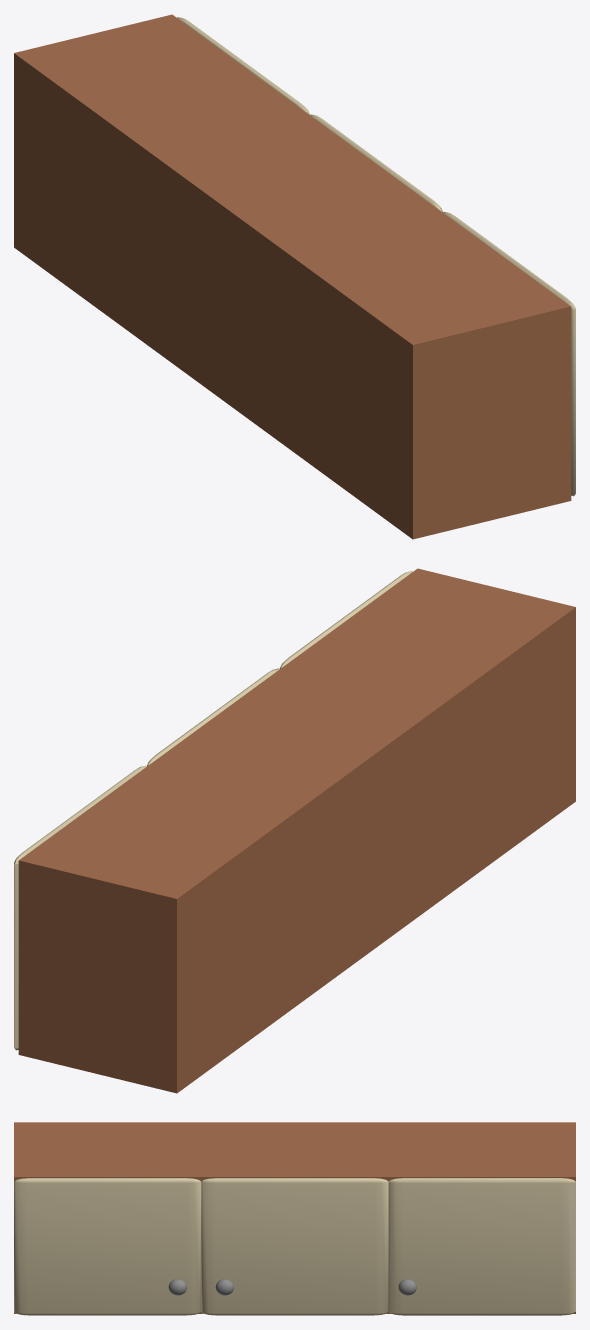
Rendered from Wandschrank.fbx.
3 views of the same model, one above another, from view 1: azimuth 30°, elevation 25°; view 2: azimuth 150°, elevation 25°; view 3: azimuth 270°, elevation 25° (orthographic). The views are drawn at different scales.
Parts seen in each view (by area): view 1: Wandschrank, Wandschrank_Tür_links, Wandschrank_Tür_rechts, Wandschrank_Tür_mittig; view 2: Wandschrank, Wandschrank_Tür_rechts, Wandschrank_Tür_links, Wandschrank_Tür_mittig; view 3: Wandschrank, Wandschrank_Tür_mittig, Wandschrank_Tür_links, Wandschrank_Tür_rechts.
Part boxes in pixels (<box>): Wandschrank: <box>14,14,571,539</box>; Wandschrank_Tür_links: <box>443,211,575,496</box>; Wandschrank_Tür_rechts: <box>177,17,309,114</box>; Wandschrank_Tür_mittig: <box>310,114,442,212</box>; Wandschrank: <box>18,568,575,1093</box>; Wandschrank_Tür_rechts: <box>14,765,146,1050</box>; Wandschrank_Tür_links: <box>280,571,412,668</box>; Wandschrank_Tür_mittig: <box>147,668,279,766</box>; Wandschrank: <box>14,1122,575,1313</box>; Wandschrank_Tür_mittig: <box>201,1178,388,1315</box>; Wandschrank_Tür_links: <box>14,1178,201,1315</box>; Wandschrank_Tür_rechts: <box>388,1178,575,1315</box>.
Bounding box in the file's own units: 434 × 442 × 1644.
